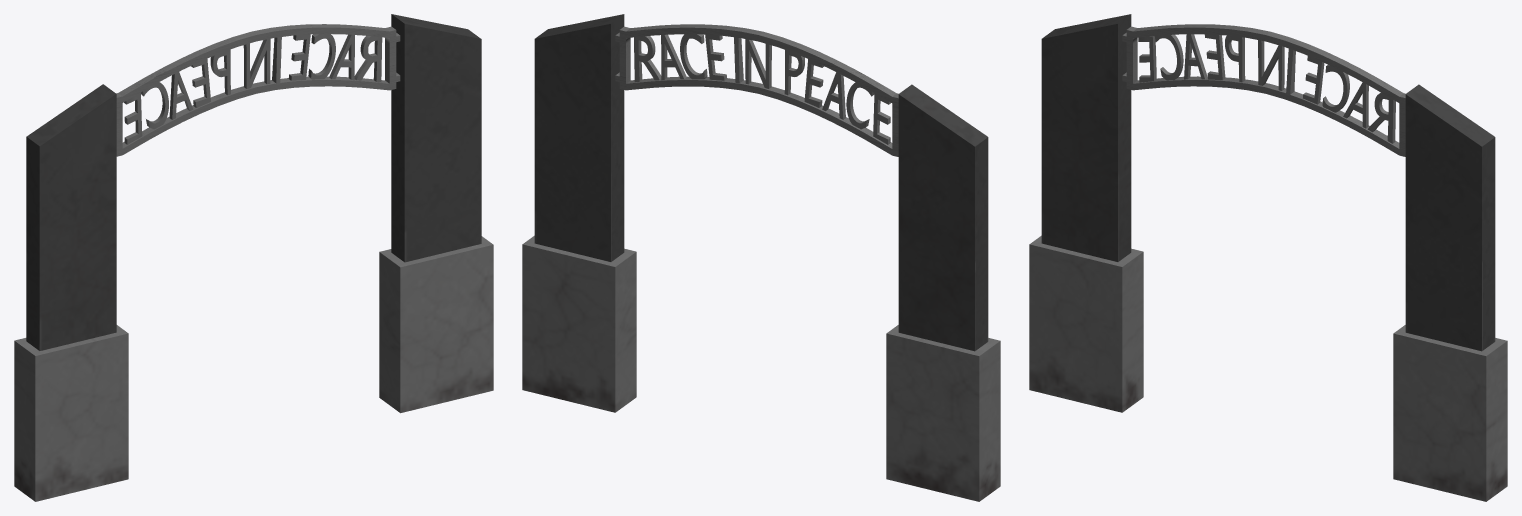
The model's file is Gerbang.fbx.
3 views of the same model, side by side, from view 1: azimuth 30°, elevation 25°; view 2: azimuth 150°, elevation 25°; view 3: azimuth 330°, elevation 25° (orthographic).
Parts seen in each view (by area): view 1: pagar gerbang low, Besi gerbang, Text.001; view 2: pagar gerbang low, Besi gerbang, Text.001; view 3: pagar gerbang low, Besi gerbang, Text.001.
Boxes of the visible parts, x1,y1,x2,y2 form: pagar gerbang low: [14, 14, 493, 501]; Besi gerbang: [116, 24, 400, 156]; Text.001: [124, 34, 382, 144]; pagar gerbang low: [522, 14, 1000, 501]; Besi gerbang: [615, 24, 898, 156]; Text.001: [634, 34, 890, 144]; pagar gerbang low: [1029, 14, 1507, 501]; Besi gerbang: [1122, 24, 1405, 156]; Text.001: [1138, 34, 1395, 143].
Size of the model in its own units: 4265 by 3607 by 349.
